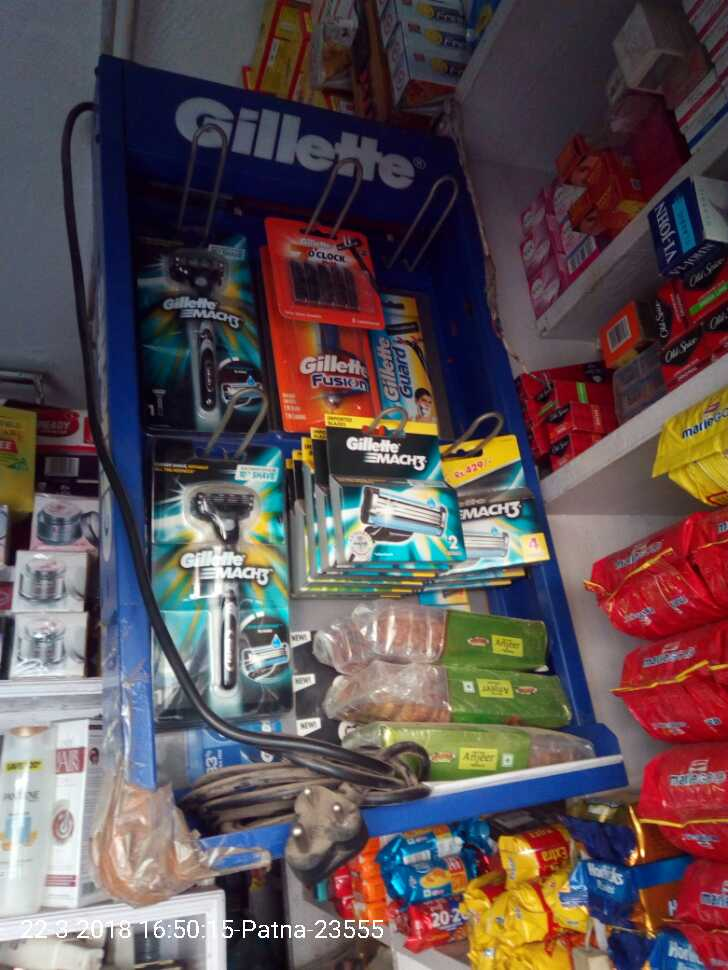gillette: (150, 461, 293, 730), (471, 626, 677, 793), (137, 231, 277, 437), (308, 426, 462, 582), (381, 286, 437, 429)
